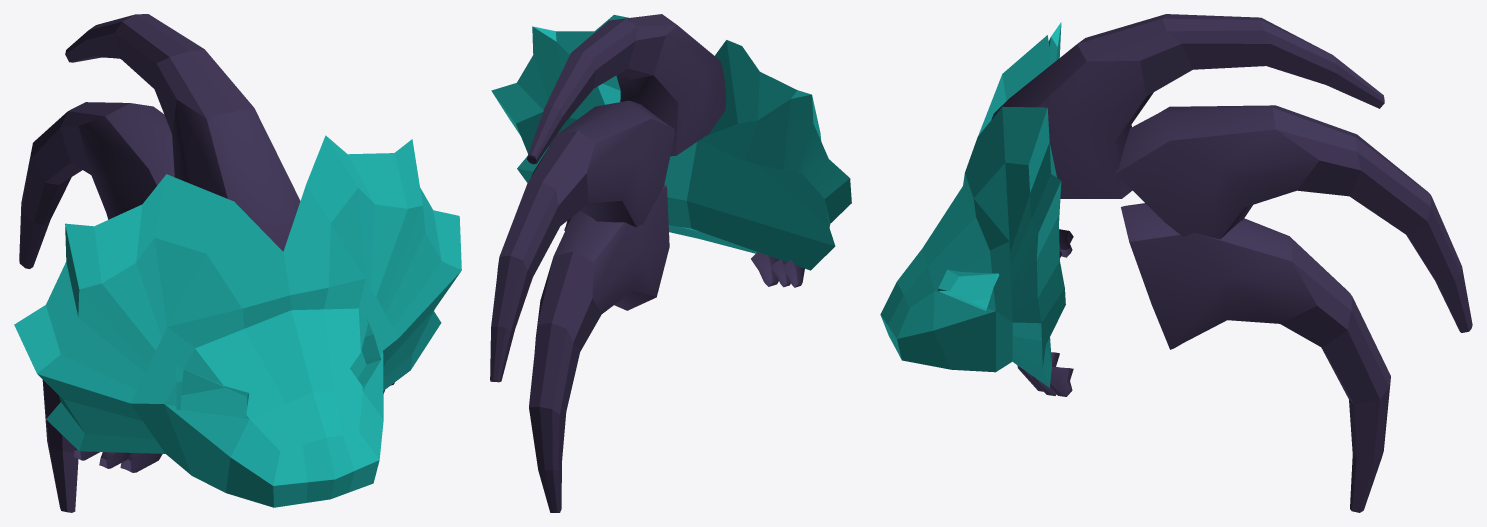
File: ReptileMaskLizard.fbx
3 renders of one model, left to right at view 1: azimuth 30°, elevation 25°; view 2: azimuth 150°, elevation 25°; view 3: azimuth 270°, elevation 25°, orthographic. The views are drawn at different scales.
Visible parts, largest first — view 1: ReptileMaskLizard; view 2: ReptileMaskLizard; view 3: ReptileMaskLizard.
Boxes of the visible parts, x1,y1,x2,y2 form: ReptileMaskLizard: [14, 14, 461, 512]; ReptileMaskLizard: [490, 14, 851, 512]; ReptileMaskLizard: [880, 14, 1472, 512].
Bounding box in the file's own units: 2.47 × 2.82 × 3.03.
